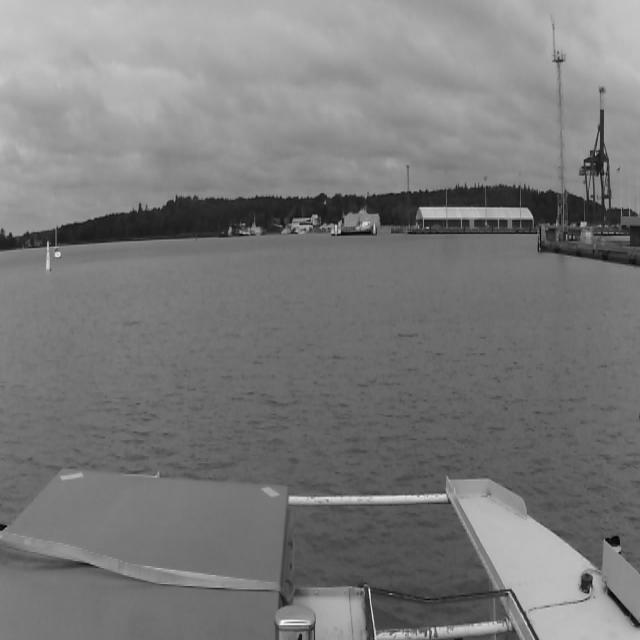buoy: (45, 241, 51, 271)
ship: (53, 188, 61, 260)
